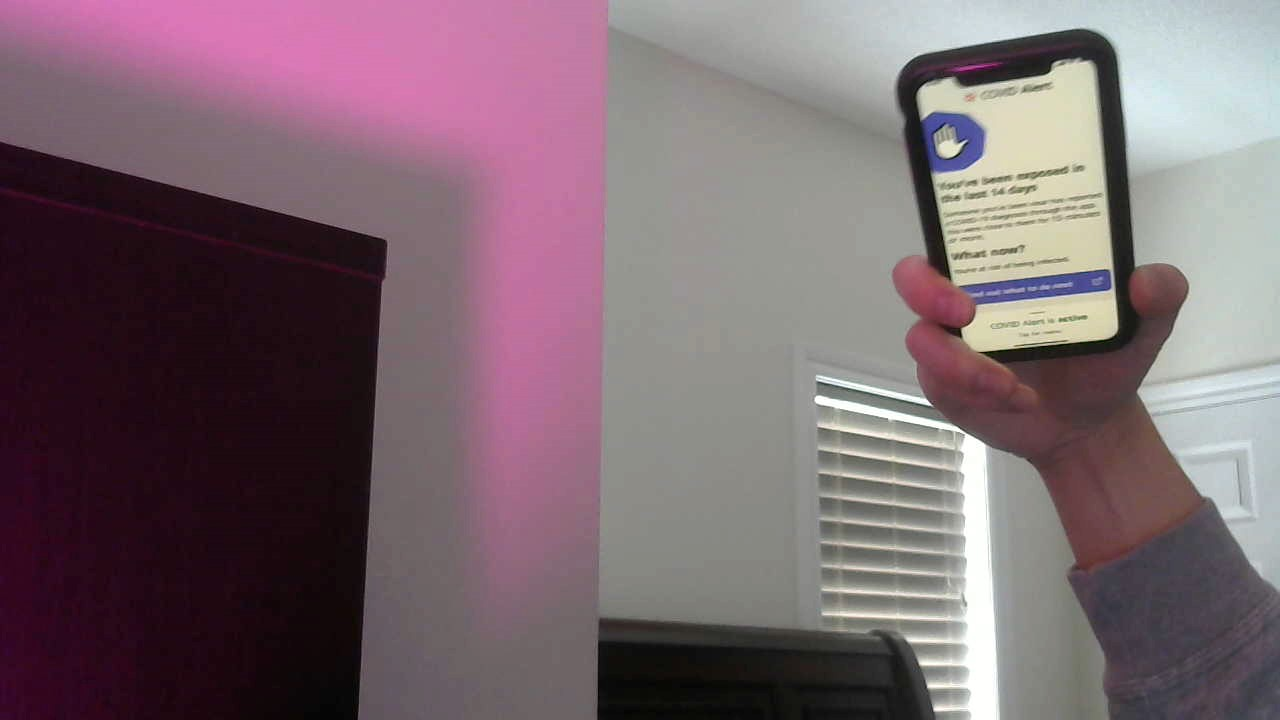Exposed: (913, 108, 1109, 207)
